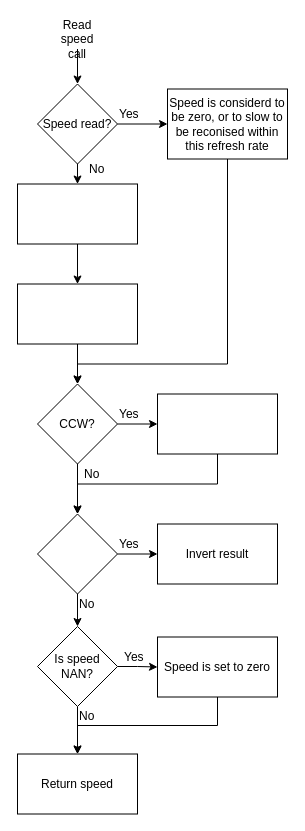
This 305x831 diagram has some shape labels left out. The shapes that lost their labels are listed below. From the top down, each one's centre as x and y in pixels, then its label:
point (77, 213): Calculate the speed with the given period, puls count and resolution.
point (77, 313): Set the speed read flag
point (217, 423): Invert speed
point (77, 553): Inverse?
